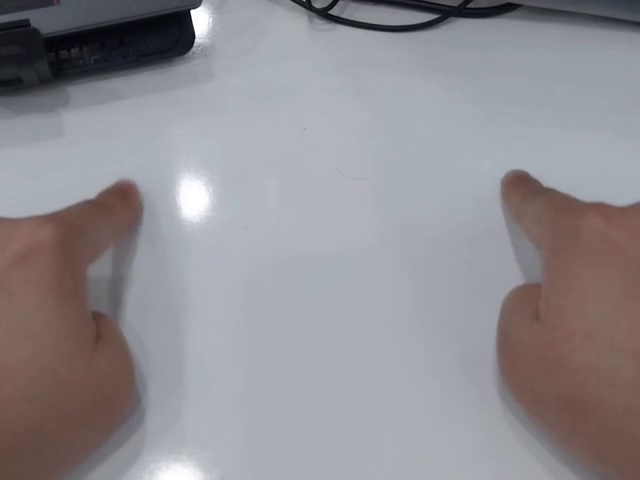fingers: (97, 177, 142, 234), (499, 167, 540, 218)
